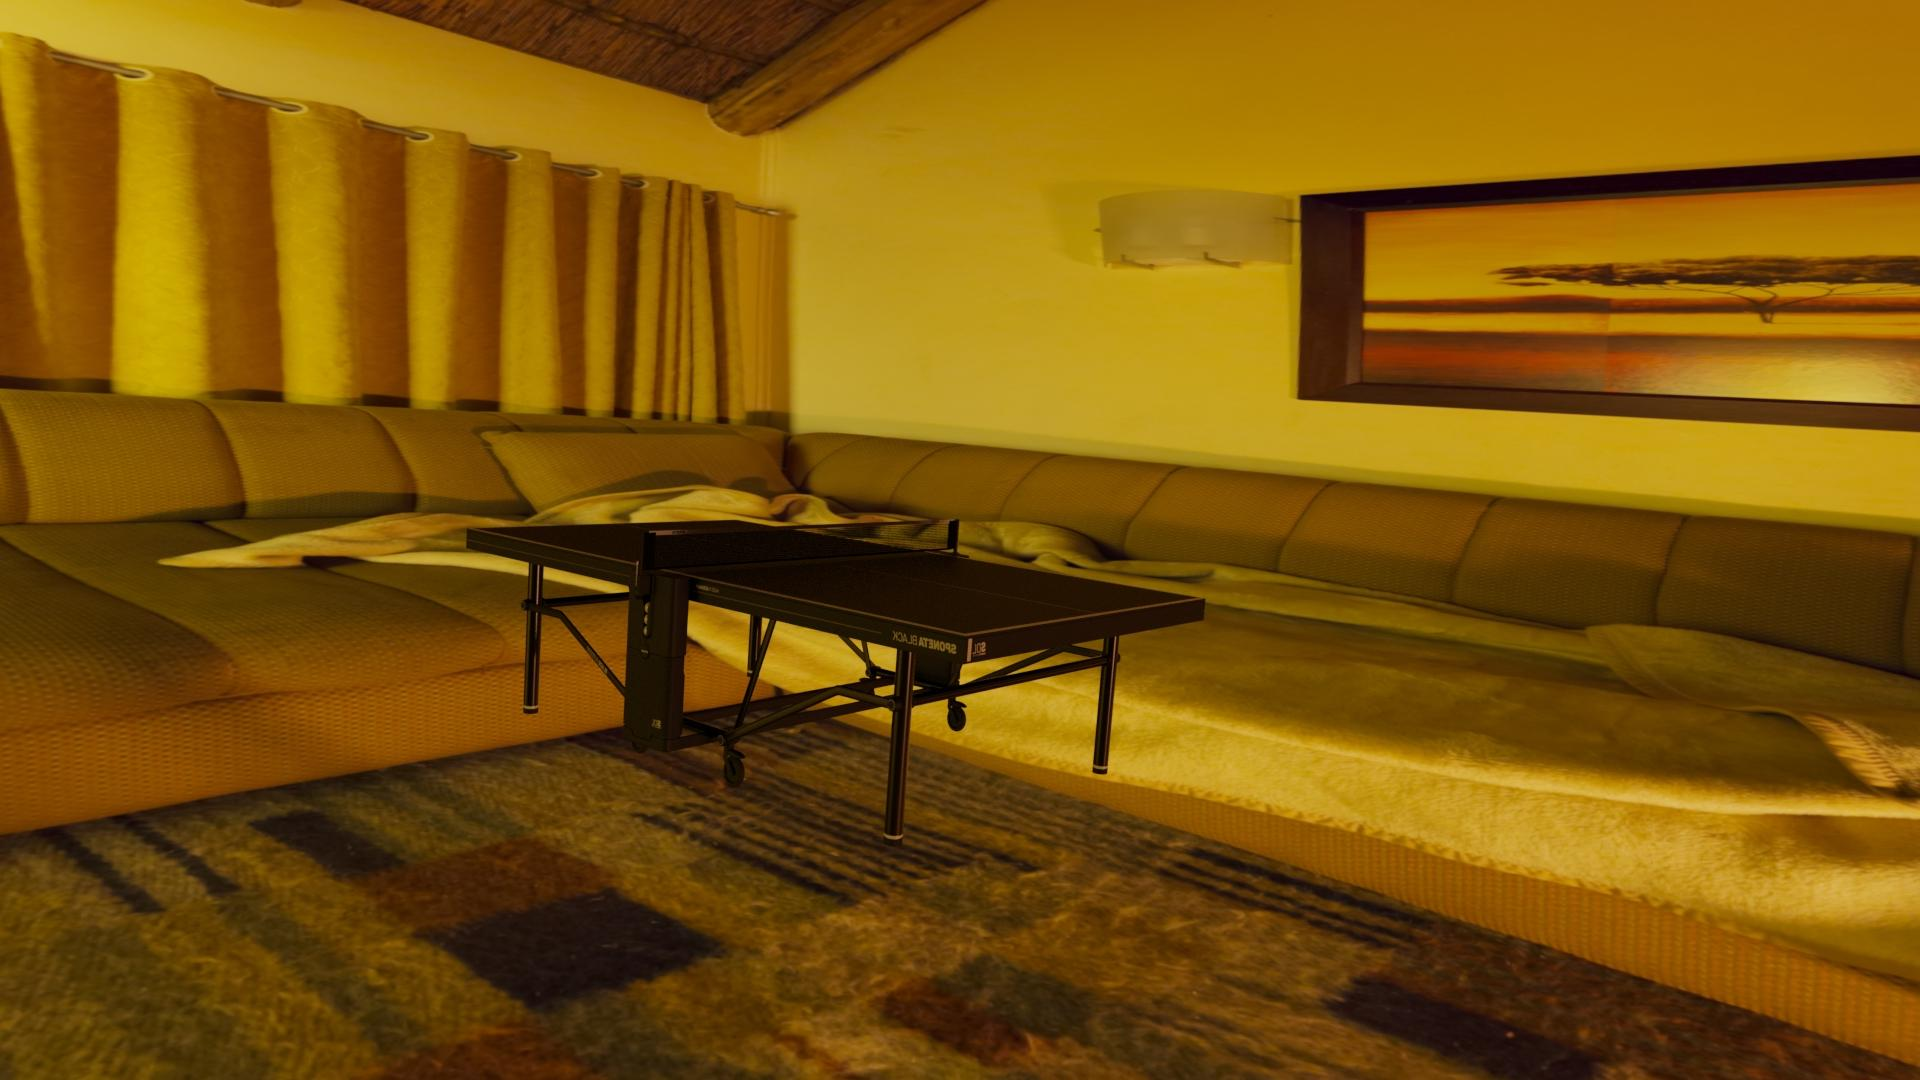table: (473, 520, 1199, 634)
